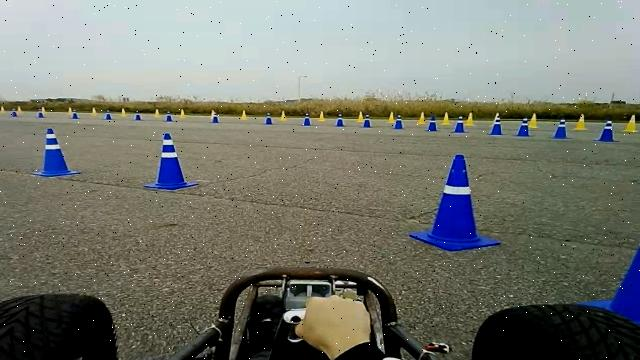blue cone: (409, 154, 501, 251), (575, 228, 640, 329), (144, 132, 199, 191), (31, 127, 81, 177), (593, 120, 619, 142), (513, 117, 535, 137), (552, 118, 572, 139), (490, 108, 504, 135), (451, 121, 469, 133), (426, 121, 438, 132), (393, 119, 404, 129), (362, 118, 372, 128), (264, 116, 274, 125), (302, 117, 311, 126), (36, 110, 46, 118), (336, 118, 345, 126), (211, 115, 220, 123), (70, 112, 80, 119), (104, 112, 112, 120), (165, 114, 174, 121), (133, 114, 142, 121)
yellow cone: (622, 114, 639, 133), (573, 113, 588, 130), (528, 112, 539, 128), (441, 112, 452, 124), (416, 112, 426, 124), (466, 112, 474, 126), (388, 111, 396, 122), (357, 111, 365, 122), (318, 111, 326, 121), (280, 110, 287, 121), (241, 109, 248, 120)
